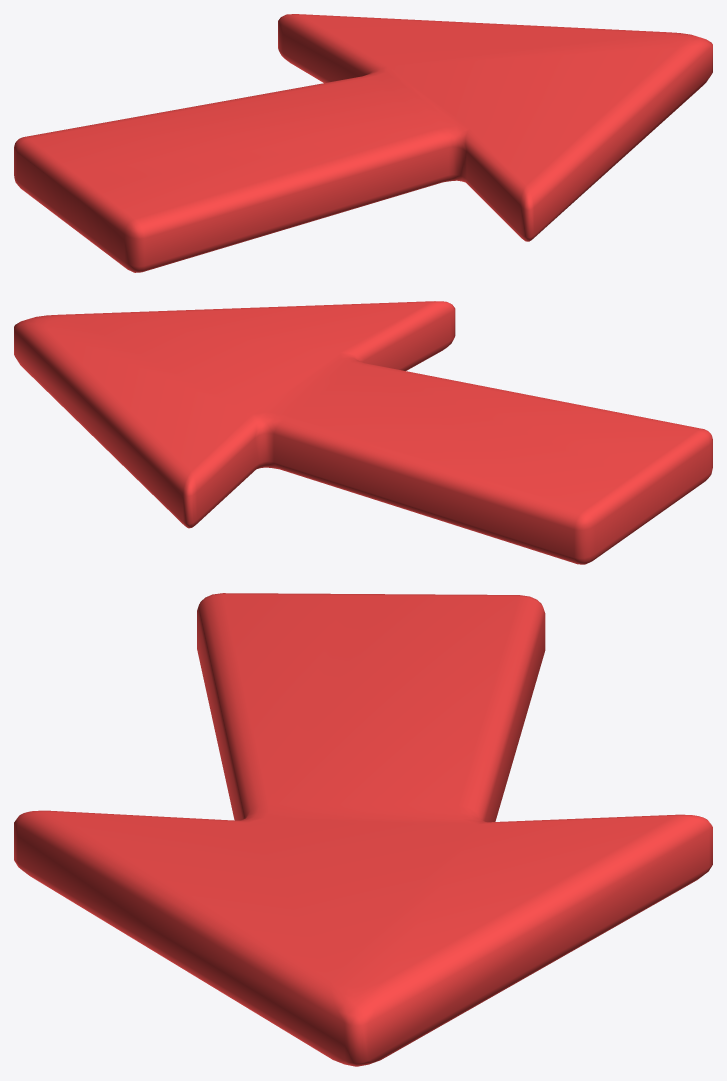
Rendered from red.glb.
3 renders of one model, top to bottom at view 1: azimuth 30°, elevation 25°; view 2: azimuth 150°, elevation 25°; view 3: azimuth 270°, elevation 25°, orthographic. The views are drawn at different scales.
Parts seen in each view (by area): view 1: Arrow; view 2: Arrow; view 3: Arrow.
Part boxes in pixels (box(x1,y1,x2,y2)): Arrow: box(14, 14, 712, 272); Arrow: box(14, 301, 712, 564); Arrow: box(14, 593, 712, 1066).
Bounding box in the file's own units: 3.01 × 0.2343 × 2.11.
